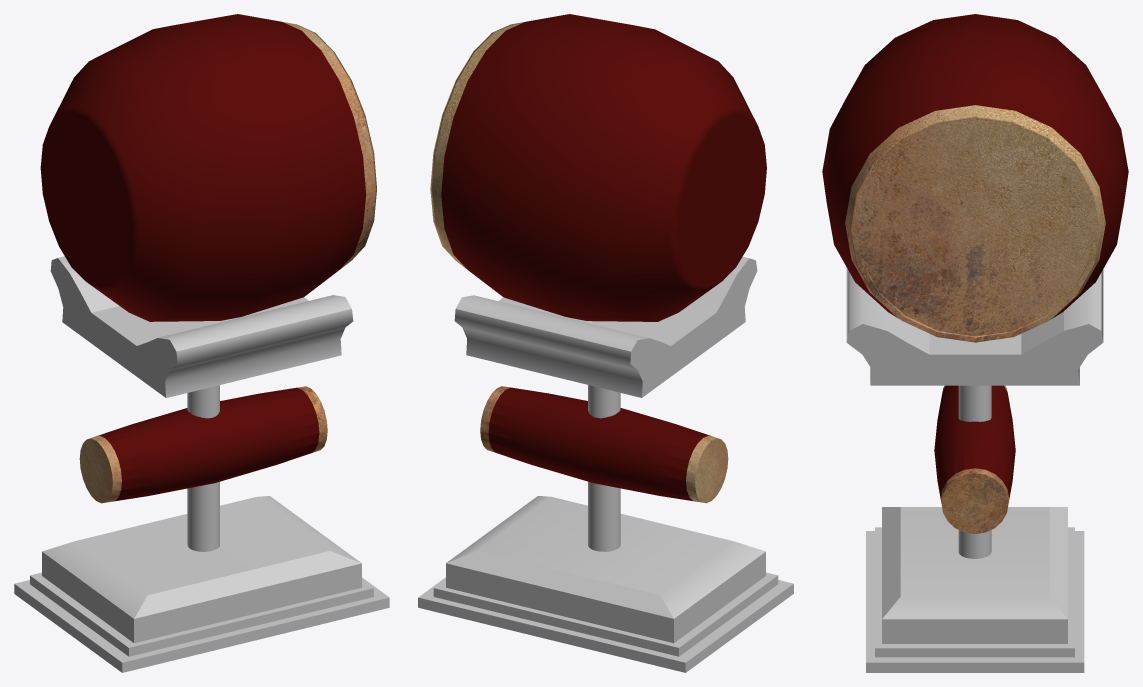
The model's file is drum.fbx.
The picture shows the model from 3 angles, left to right: view 1: azimuth 30°, elevation 25°; view 2: azimuth 150°, elevation 25°; view 3: azimuth 270°, elevation 25°; orthographic projection.
Parts seen in each view (by area): view 1: drum_body1, drum_stand1; view 2: drum_body1, drum_stand1; view 3: drum_body1, drum_stand1.
Boxes of the visible parts, x1,y1,x2,y2 form: drum_body1: [40, 14, 376, 503]; drum_stand1: [14, 256, 389, 672]; drum_body1: [430, 14, 766, 503]; drum_stand1: [418, 256, 793, 672]; drum_body1: [822, 14, 1128, 533]; drum_stand1: [846, 268, 1103, 672].
Size of the model in its own units: 1 by 2.02 by 0.9821.
